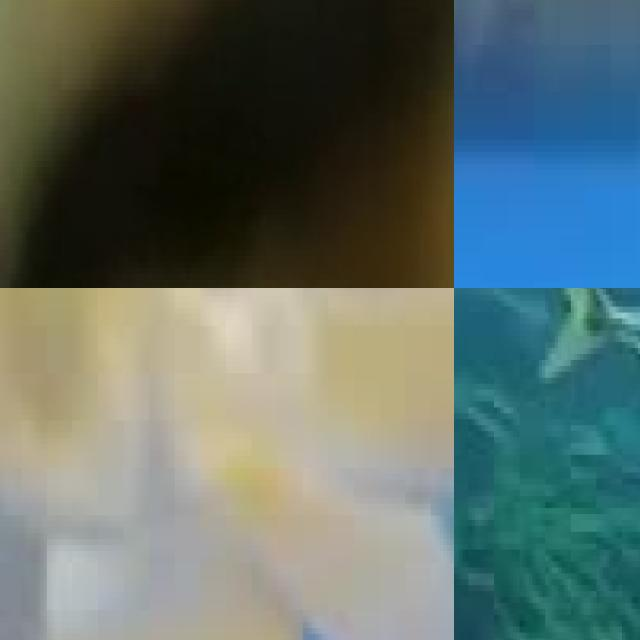fish: (0, 0, 454, 288), (516, 288, 640, 520)
